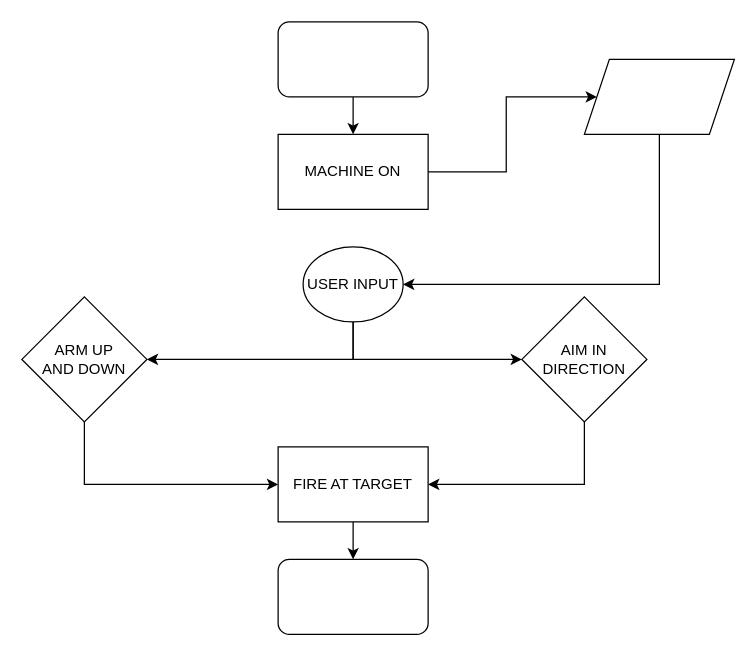
Image size: 756x656. Some labels were removed from this diagram. Each missing label, with the centre of its shape:
"START" goes at (352,59).
"STOP" goes at (352,596).
"USER INPUT via REMOTE" goes at (658,96).
